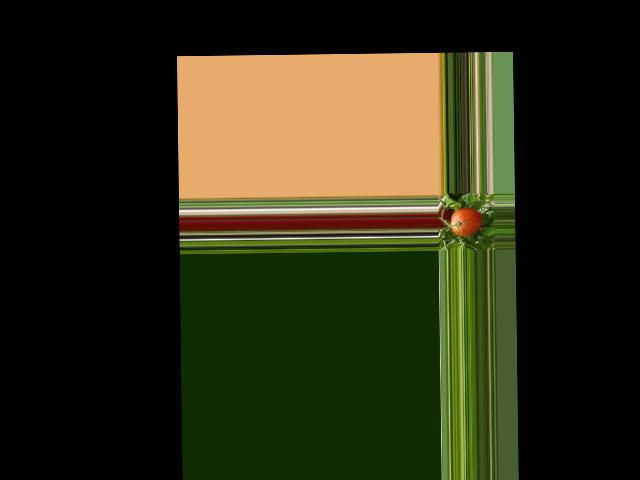tomato: (450, 208, 481, 236)
